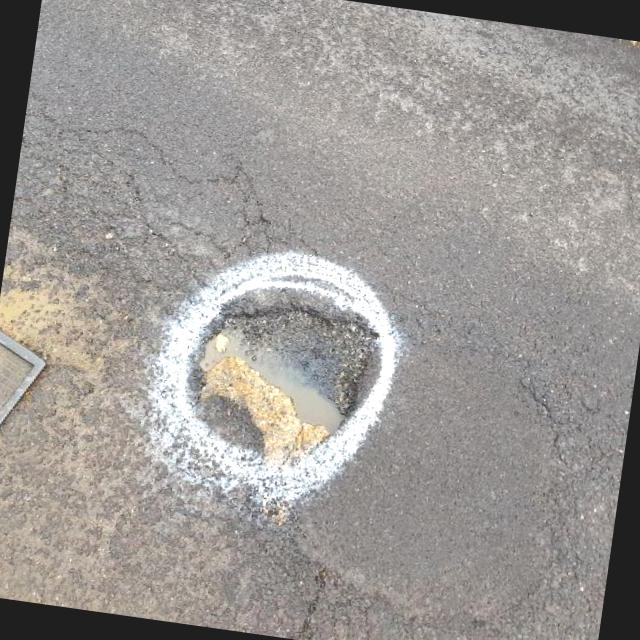pothole: (172, 283, 394, 482)
